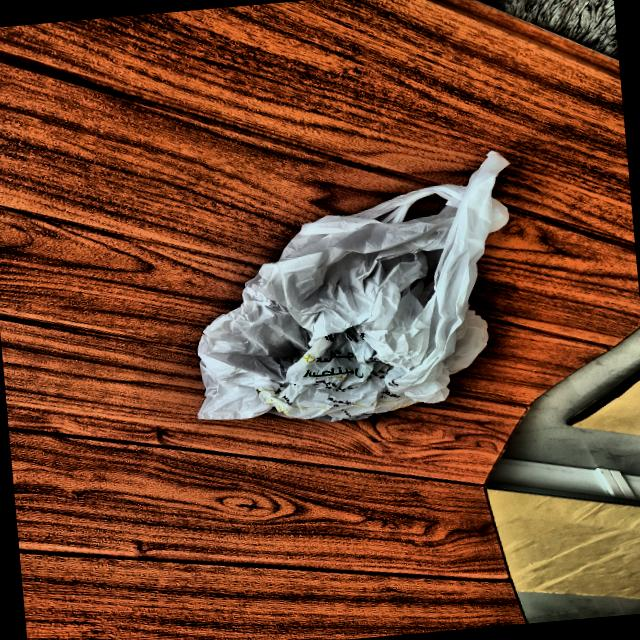plastic bag: (178, 154, 525, 426)
